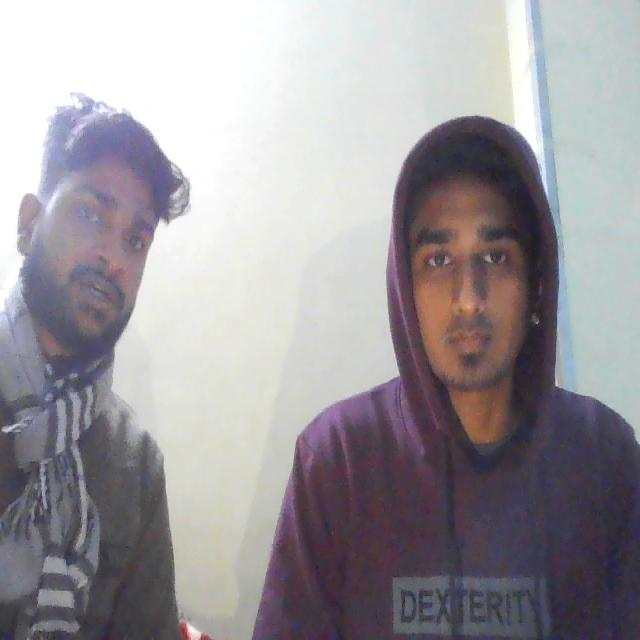real: (392, 108, 556, 417), (25, 97, 161, 355)
